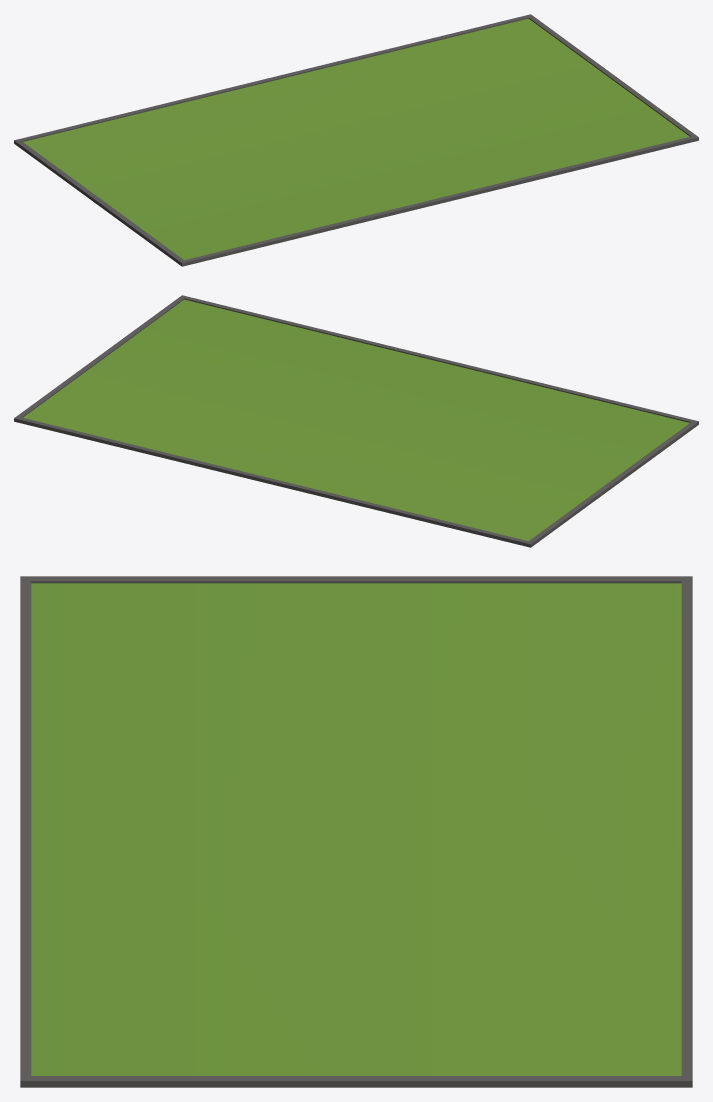
Rendered from SM_Floor_Garden_06.fbx.
3 renders of one model, top to bottom at view 1: azimuth 30°, elevation 25°; view 2: azimuth 150°, elevation 25°; view 3: azimuth 270°, elevation 25°, orthographic. The views are drawn at different scales.
Visible parts, largest first — view 1: SM_Floor_Garden_06; view 2: SM_Floor_Garden_06; view 3: SM_Floor_Garden_06.
Part boxes in pixels (x1=…): SM_Floor_Garden_06: x1=14, y1=14, x2=698, y2=266; SM_Floor_Garden_06: x1=14, y1=295, x2=698, y2=547; SM_Floor_Garden_06: x1=20, y1=576, x2=692, y2=1087.
Bounding box in the file's own units: 12.11 × 0.075 × 6.82.
